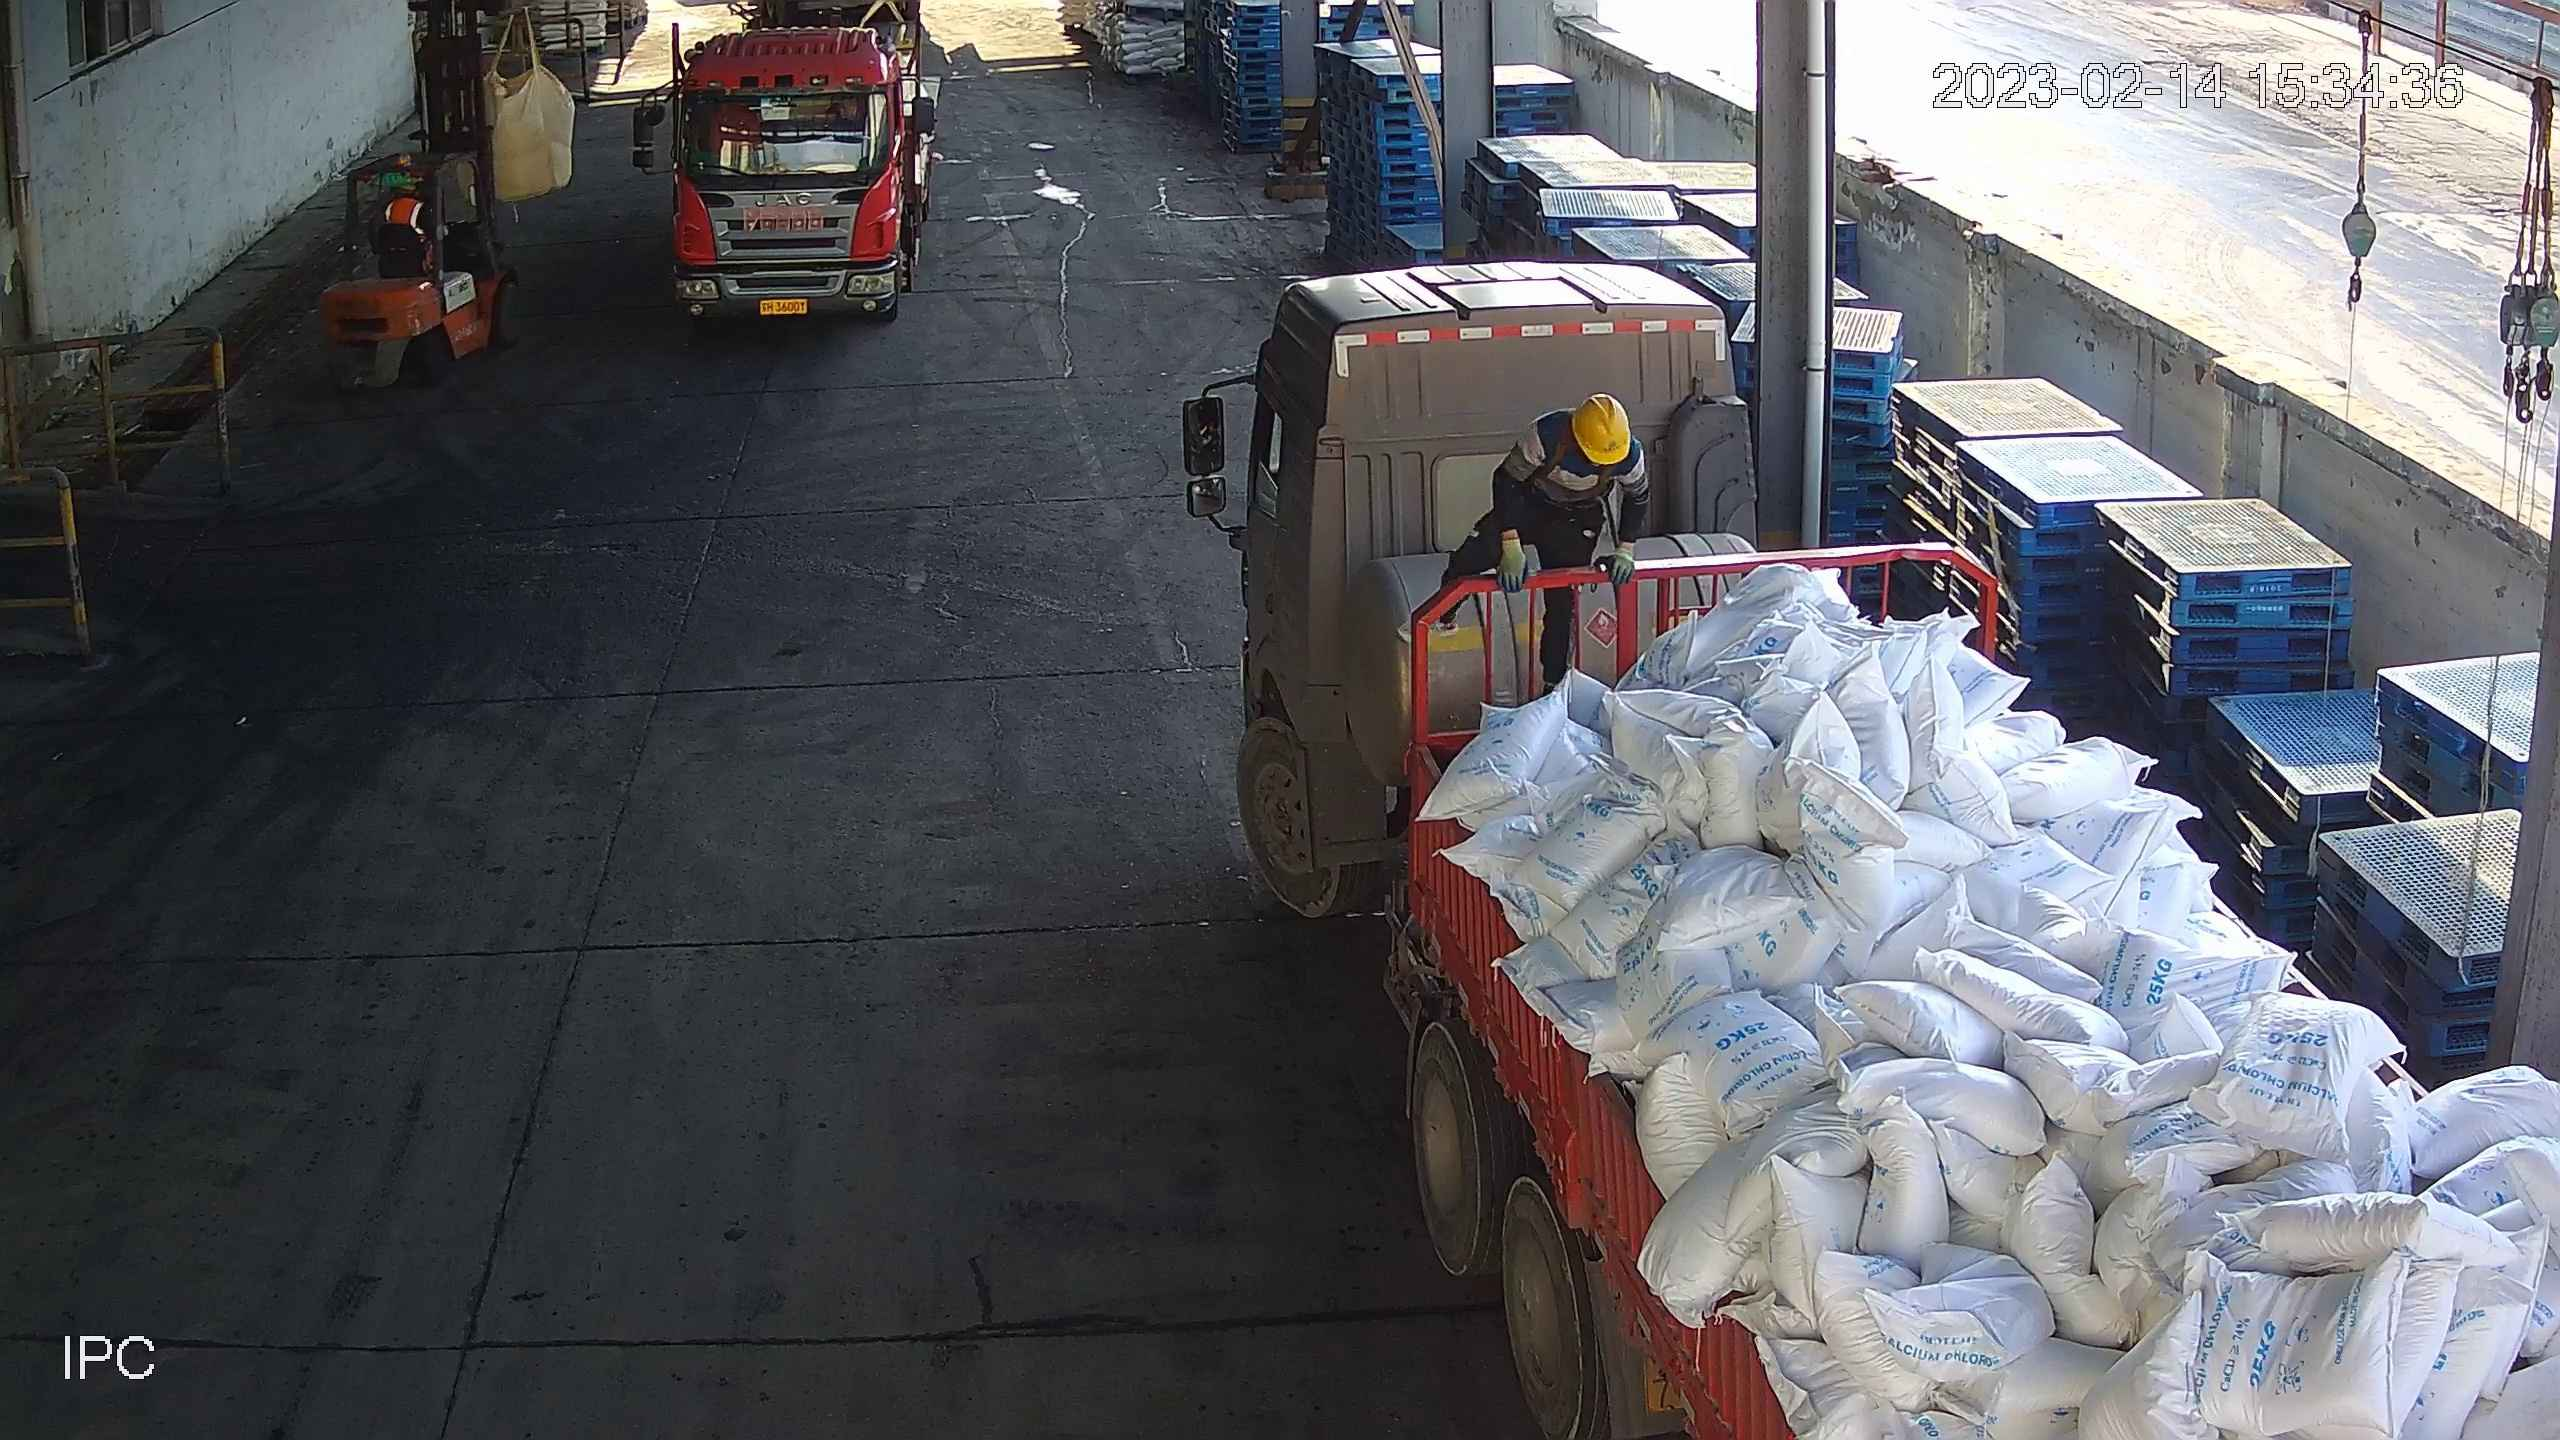belt: (1536, 417, 1616, 499)
head: (1501, 386, 1635, 499)
helmet: (1568, 390, 1638, 471)
people: (1435, 393, 1647, 695)
truck: (1199, 258, 2560, 1440), (624, 1, 961, 336)
